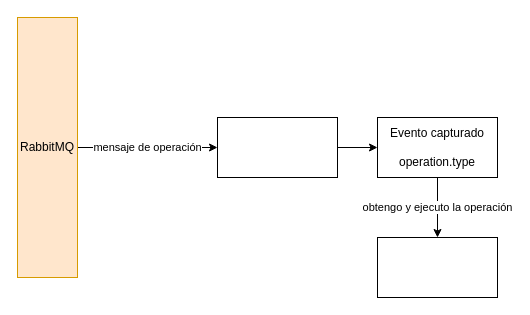
Some shapes in this 530 by 315 pixel diagram are drawn without their labels. The box of each missing label's shape, as (x1, y1, x2, y2) in pixels:
Consumidor Nuevo evento: (216, 116, 338, 178)
operaciones disponibles: (376, 236, 498, 298)
